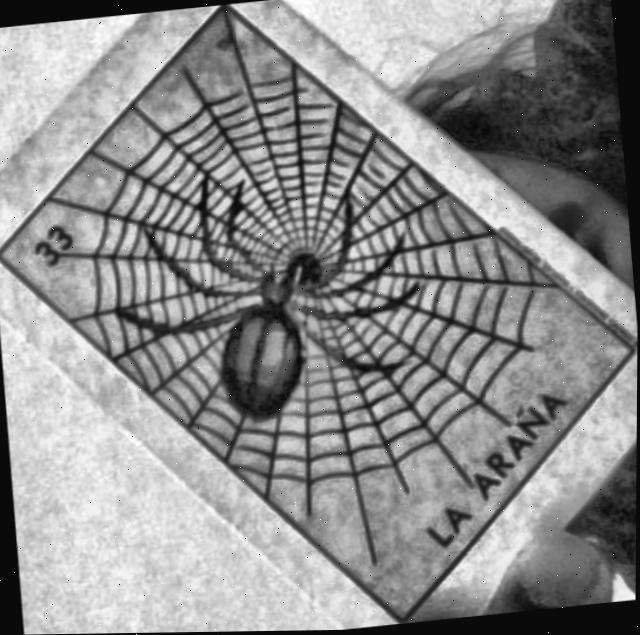La Arana: (0, 4, 634, 616)
